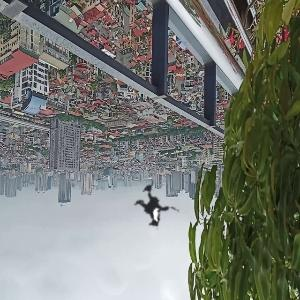drone: (103, 160, 197, 254)
